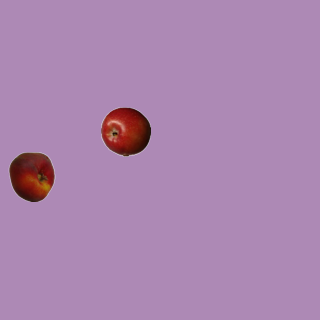Apple Braeburn: (100, 106, 150, 156)
Nectarine Flat: (6, 151, 56, 201)
